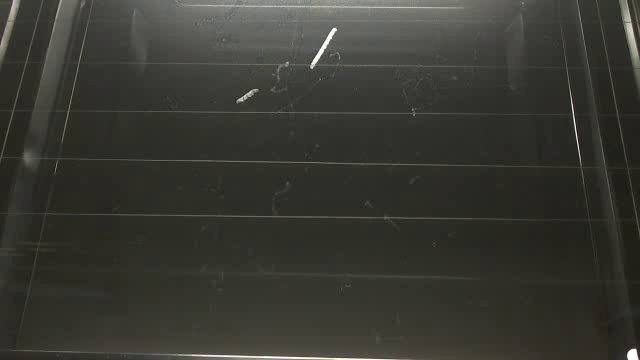Alfa: (308, 26, 338, 74), (236, 86, 262, 105)
